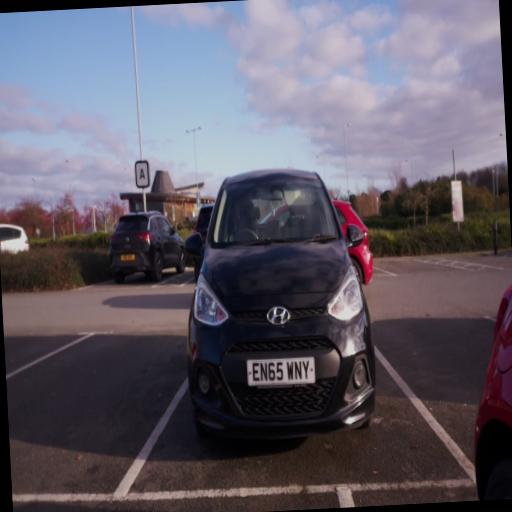numberplates: (246, 356, 316, 388)
